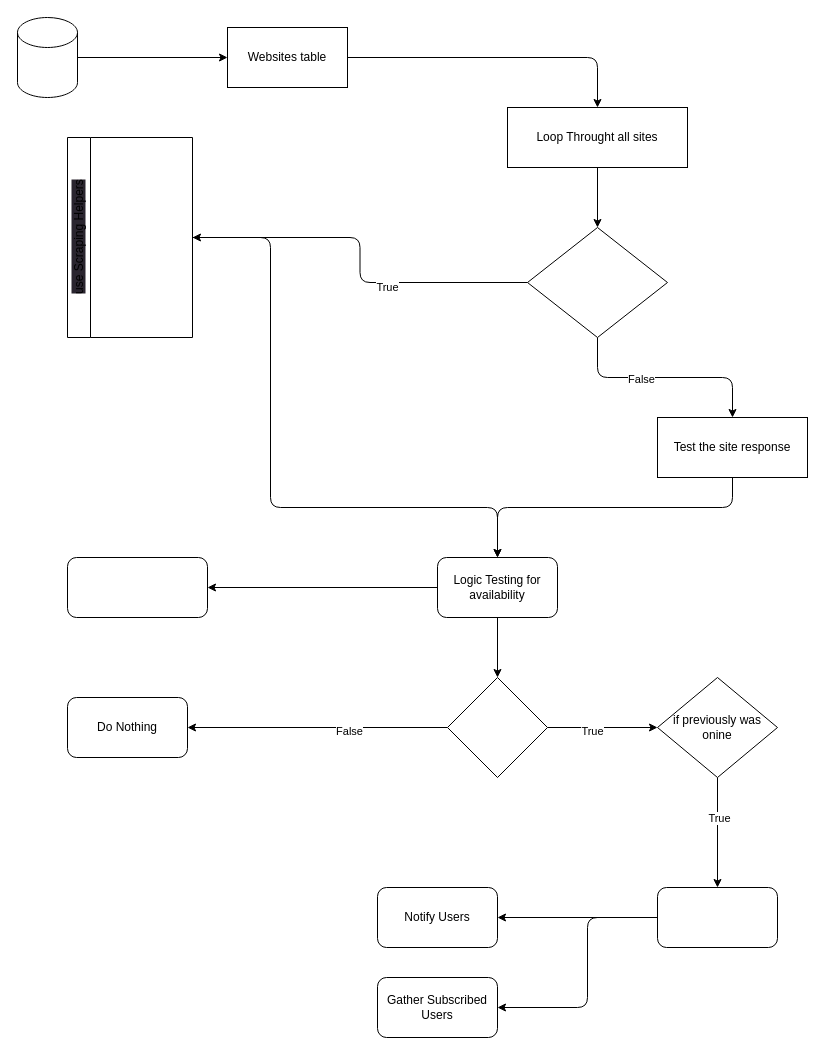
The diagram is 825 pixels wide and 1055 high, and some of its shapes have lost their labels. The shapes that lost their labels are listed below. From the top down, each one's centre as x and y in pixels, then its label:
[597,282]: need_scrape
[137,587]: update website status
[497,727]: is_online
[717,917]: Broadcast to Users
